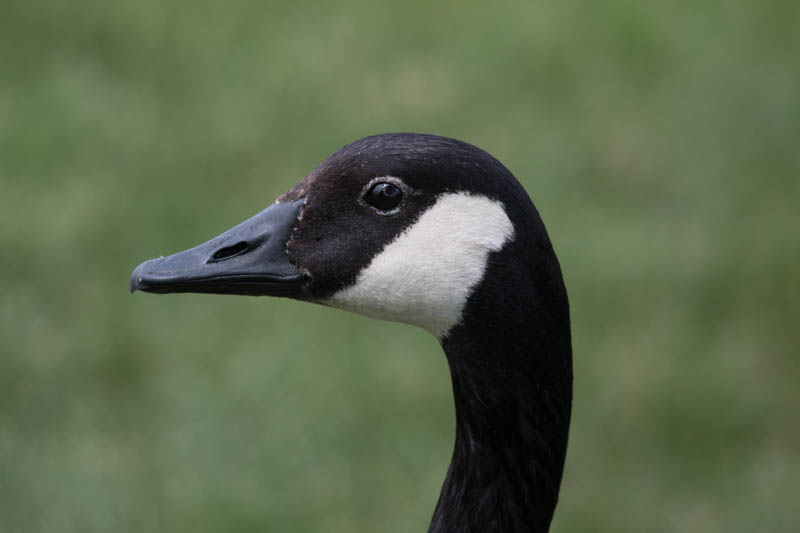goose-head: (129, 133, 570, 345)
